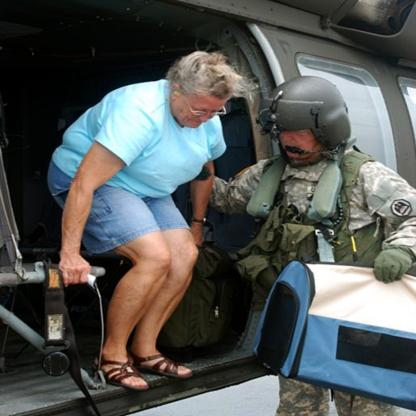Helmet: (254, 76, 357, 170)
